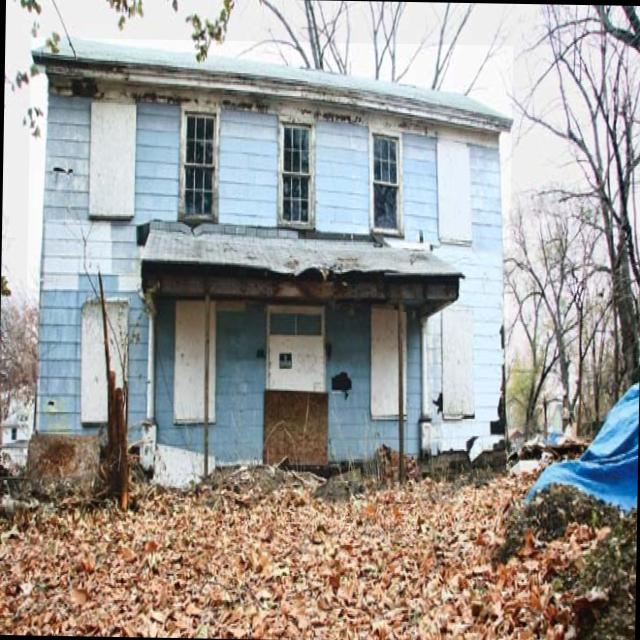House: (23, 37, 513, 500)
